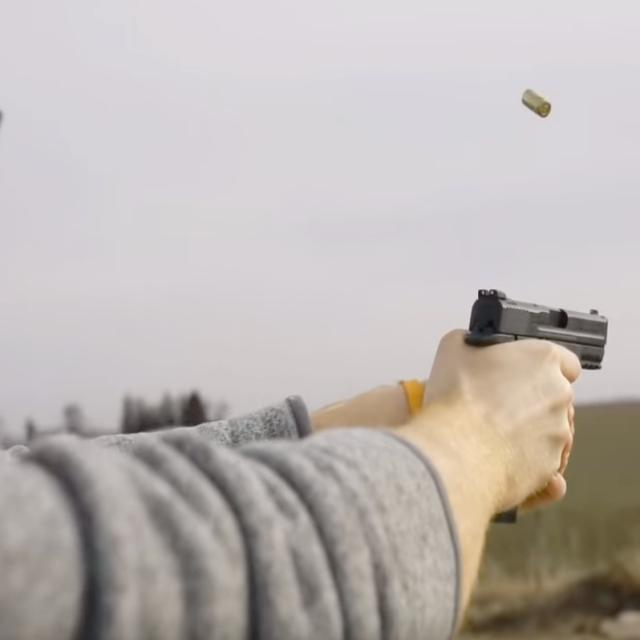gun: (463, 285, 610, 527)
